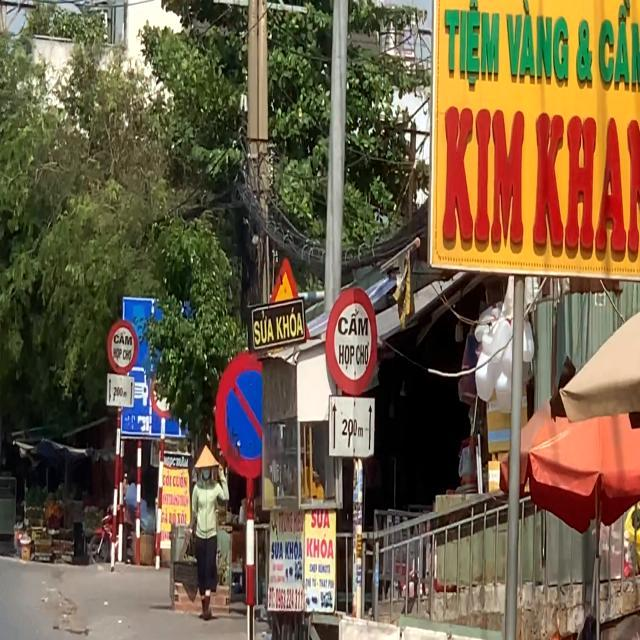Cam do xe: (214, 350, 288, 480)
